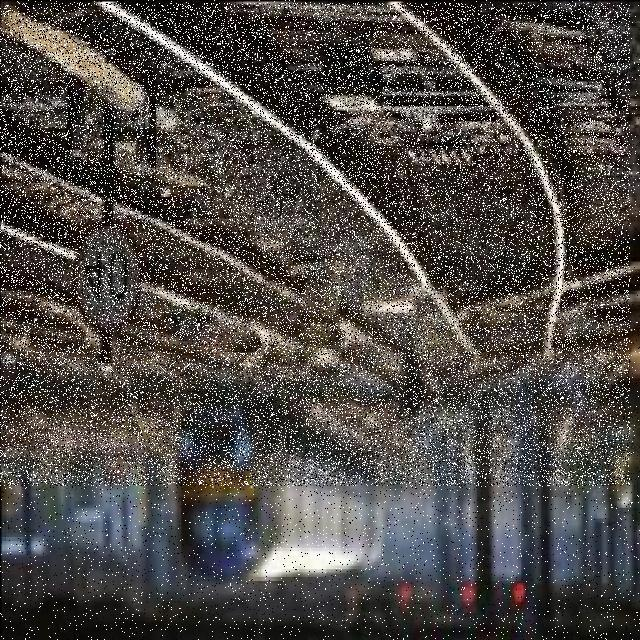rail: (1, 3, 630, 486)
